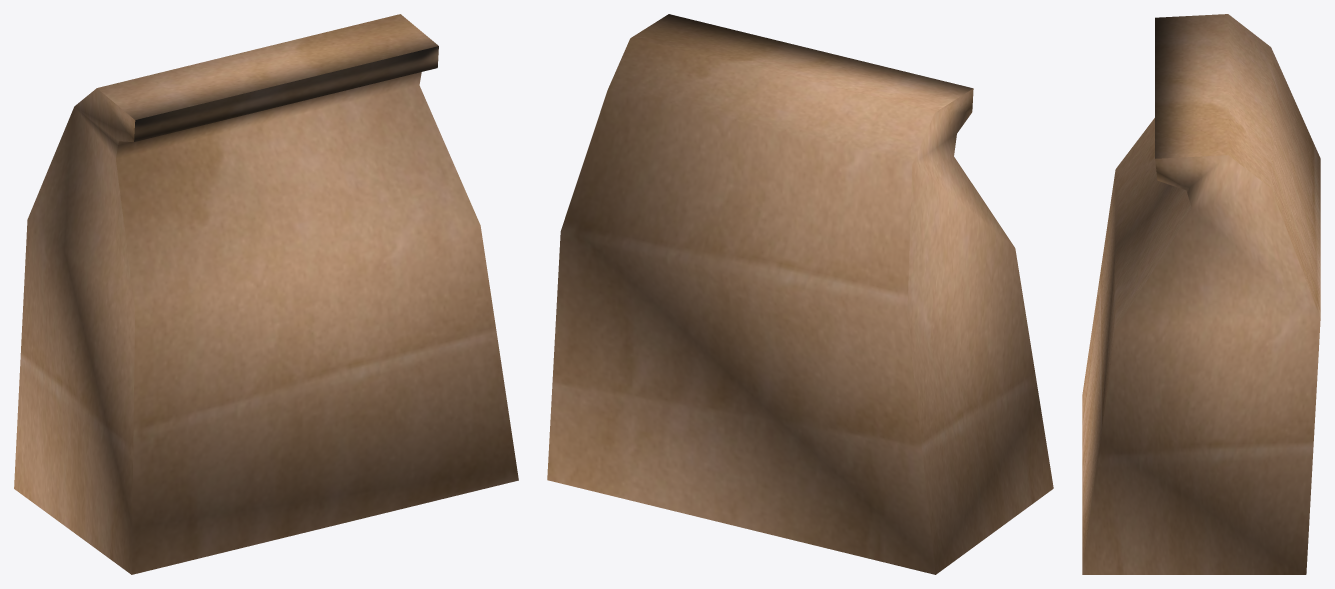
Rendered from paper_bag_1.glb.
The picture shows the model from 3 angles, left to right: view 1: azimuth 30°, elevation 25°; view 2: azimuth 150°, elevation 25°; view 3: azimuth 270°, elevation 25°; orthographic projection. The views are drawn at different scales.
Parts seen in each view (by area): view 1: Paper_Bag_1; view 2: Paper_Bag_1; view 3: Paper_Bag_1.
Boxes of the visible parts, x1,y1,x2,y2 form: Paper_Bag_1: (14,14,518,574); Paper_Bag_1: (547,14,1053,574); Paper_Bag_1: (1082,14,1320,574).
Bounding box in the file's own units: 0.5036 × 0.5227 × 0.2818.
1 material, 1 textured.
